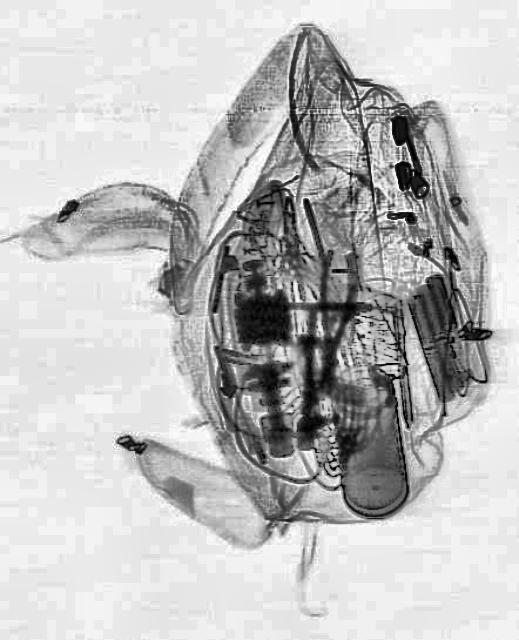Pliers: (304, 246, 362, 392)
